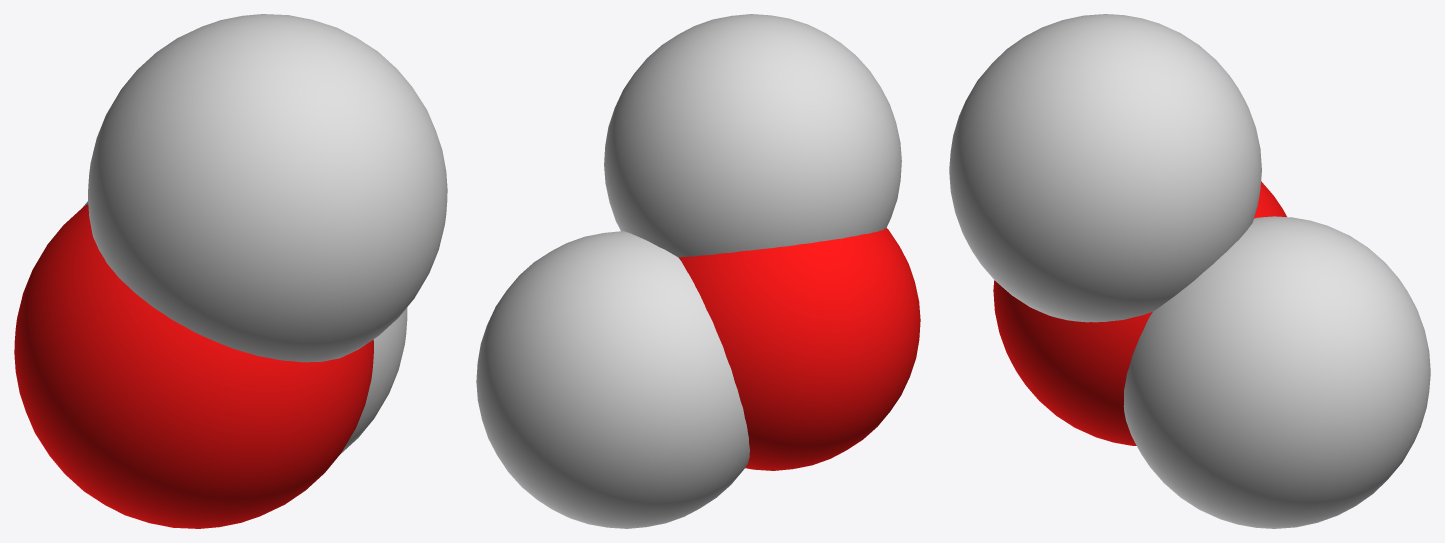
Rendered from 962-2.mol.obj.
The picture shows the model from 3 angles, left to right: view 1: azimuth 30°, elevation 25°; view 2: azimuth 150°, elevation 25°; view 3: azimuth 270°, elevation 25°; orthographic projection. The views are drawn at different scales.
Visible parts, largest first — view 1: H2_Atom, O1_Atom, H3_Atom; view 2: H3_Atom, H2_Atom, O1_Atom; view 3: H2_Atom, H3_Atom, O1_Atom.
Boxes of the visible parts, <box> form: H2_Atom: <box>88,14,447,362</box>; O1_Atom: <box>14,204,373,528</box>; H3_Atom: <box>83,201,407,454</box>; H3_Atom: <box>476,231,749,528</box>; H2_Atom: <box>604,14,901,257</box>; O1_Atom: <box>679,228,920,470</box>; H2_Atom: <box>949,14,1261,322</box>; H3_Atom: <box>1123,216,1430,528</box>; O1_Atom: <box>993,181,1286,445</box>.
Size of the model in its own units: 2.41 by 2.93 by 2.77.
